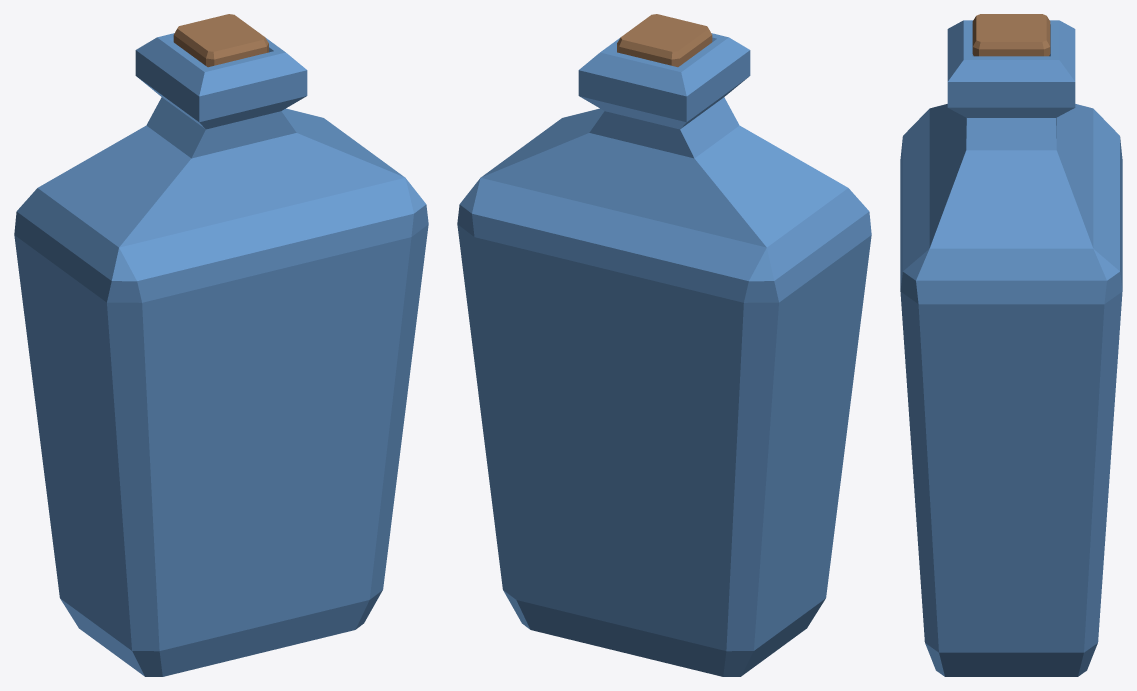
File: Blue_Potion_10.fbx
3 views of the same model, side by side, from view 1: azimuth 30°, elevation 25°; view 2: azimuth 150°, elevation 25°; view 3: azimuth 270°, elevation 25° (orthographic).
Visible parts, largest first — view 1: Blue_Potion_10; view 2: Blue_Potion_10; view 3: Blue_Potion_10.
Boxes of the visible parts, x1,y1,x2,y2 form: Blue_Potion_10: (14,14,428,676); Blue_Potion_10: (457,14,871,676); Blue_Potion_10: (900,14,1122,676).
Bounding box in the file's own units: 22.96 × 40.43 × 13.67.
